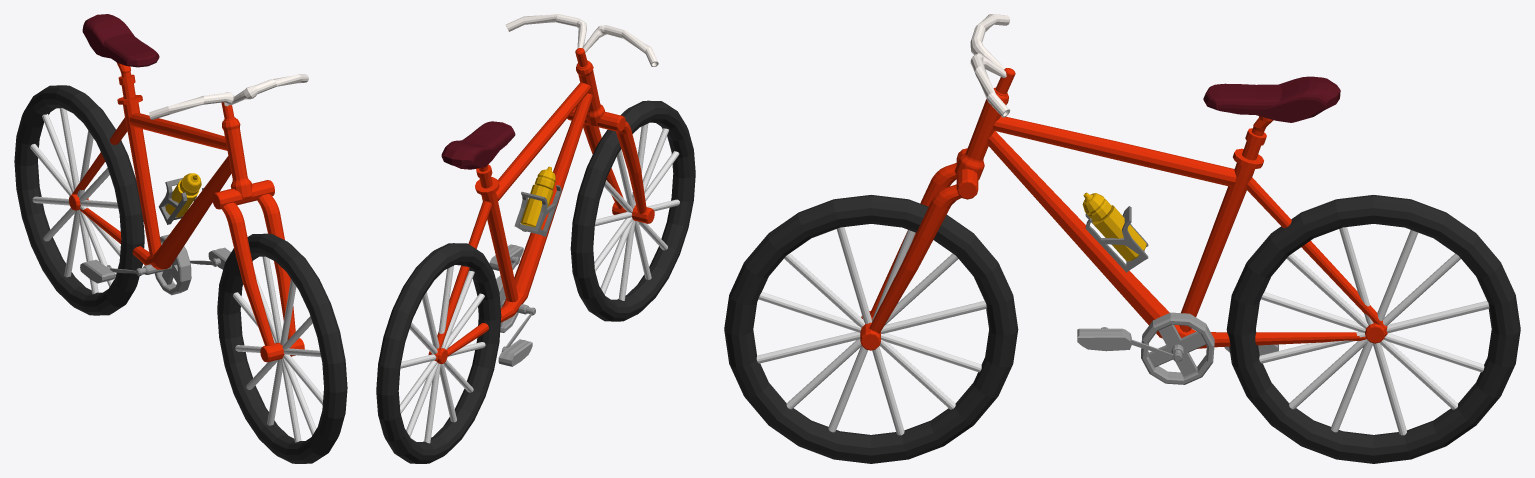
Rendered from BicycleB.fbx.
3 renders of one model, left to right at view 1: azimuth 30°, elevation 25°; view 2: azimuth 150°, elevation 25°; view 3: azimuth 270°, elevation 25°, orthographic. The views are drawn at different scales.
Visible parts, largest first — view 1: BackWheel, FrontWheel, Spine, FrontWheel_MountLock, MiddleBase, BikeSeat, Handles, FrontWheel_Mount, PedalGear, Mount, WaterBottle, Cylinder.022 (+15 smaller); view 2: BackWheel, FrontWheel, Spine, BikeSeat, MiddleBase, FrontWheel_MountLock, Handles, WaterBottle, FrontWheel_Mount, BottleHolder, PedalB, Cylinder.015 (+17 smaller); view 3: BackWheel, FrontWheel, Spine, BikeSeat, MiddleBase, FrontWheel_MountLock, PedalGear, Handles, FrontWheel_Mount, WaterBottle, BottleHolder, PedalA (+19 smaller).
Boxes of the visible parts, left/top/right/bottom form: BackWheel: left=14, top=85, right=144, bottom=315; FrontWheel: left=217, top=233, right=347, bottom=463; Spine: left=72, top=113, right=231, bottom=269; FrontWheel_MountLock: left=221, top=194, right=295, bottom=345; MiddleBase: left=116, top=62, right=161, bottom=257; BikeSeat: left=82, top=14, right=159, bottom=67; Handles: left=149, top=74, right=308, bottom=119; FrontWheel_Mount: left=221, top=102, right=252, bottom=199; PedalGear: left=154, top=234, right=191, bottom=295; Mount: left=212, top=180, right=274, bottom=209; WaterBottle: left=165, top=173, right=201, bottom=217; Cylinder.022: left=262, top=256, right=282, bottom=342; BackWheel: left=376, top=243, right=501, bottom=463; FrontWheel: left=570, top=100, right=695, bottom=321; Spine: left=430, top=82, right=592, bottom=361; BikeSeat: left=441, top=121, right=515, bottom=169; MiddleBase: left=475, top=164, right=518, bottom=302; FrontWheel_MountLock: left=583, top=121, right=646, bottom=213; Handles: left=505, top=14, right=658, bottom=66; WaterBottle: left=520, top=166, right=555, bottom=228; FrontWheel_Mount: left=575, top=48, right=604, bottom=126; BottleHolder: left=514, top=185, right=561, bottom=236; PedalB: left=498, top=339, right=532, bottom=366; Cylinder.015: left=618, top=220, right=635, bottom=300; BackWheel: left=1226, top=195, right=1520, bottom=463; FrontWheel: left=724, top=195, right=1018, bottom=463; Spine: left=987, top=116, right=1387, bottom=348; BikeSeat: left=1203, top=76, right=1340, bottom=122; MiddleBase: left=1179, top=116, right=1273, bottom=332; FrontWheel_MountLock: left=869, top=163, right=961, bottom=333; PedalGear: left=1141, top=312, right=1214, bottom=384; Handles: left=970, top=14, right=1010, bottom=117; FrontWheel_Mount: left=954, top=68, right=1015, bottom=180; WaterBottle: left=1082, top=192, right=1146, bottom=261; BottleHolder: left=1085, top=206, right=1148, bottom=272; PedalA: left=1077, top=328, right=1131, bottom=351.
Size of the model in its own units: 131 by 265 by 460.
